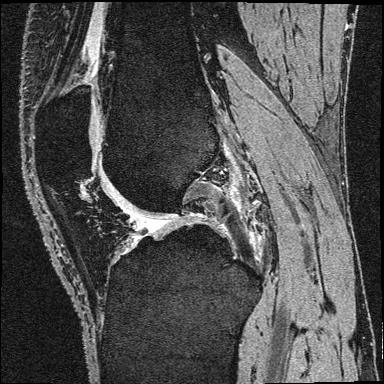SagKneeJointArea: (34, 84, 264, 326)
